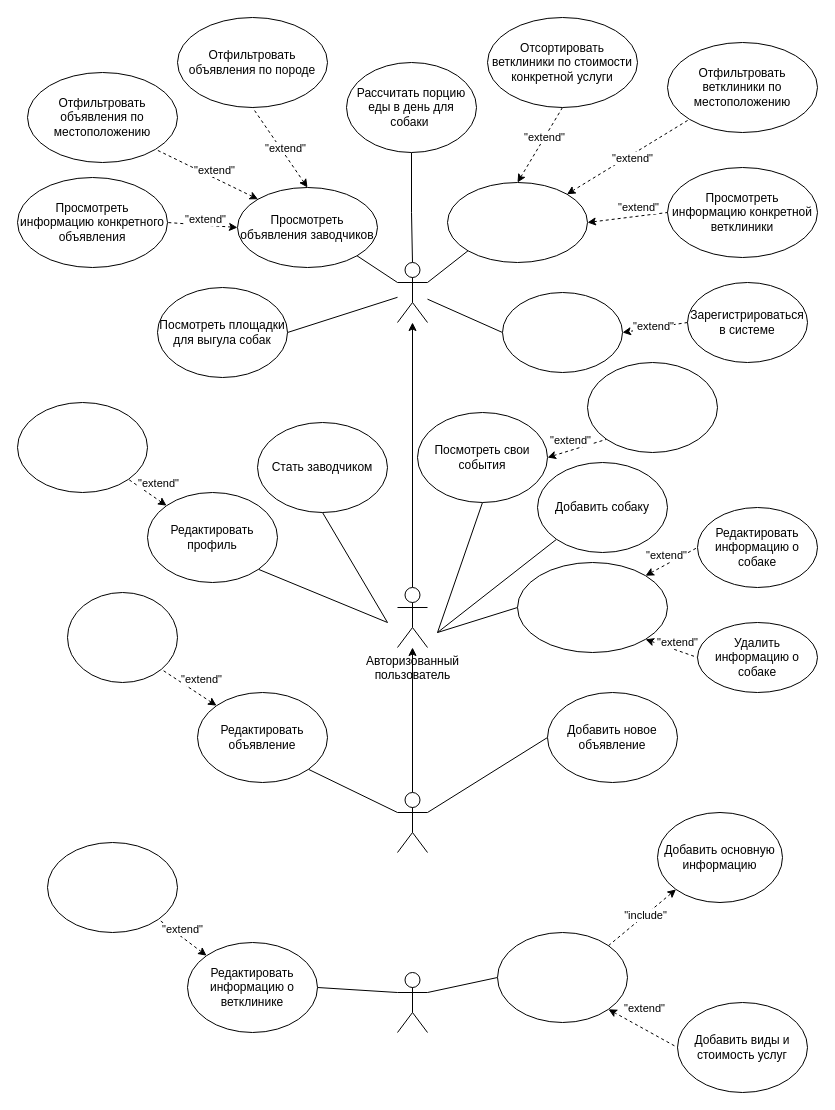
This 835x1110 diagram has some shape labels left out. Each missing label, with the centre of its shape:
Авторизоваться в системе: (562,332)
Администратор: (412,1002)
Добавить новое событие: (652,407)
Добавить новую ветклинику: (562,977)
Заводчик: (412,822)
Неавторизованный пользователь: (412,292)
Просмотреть информацию о собаке: (592,607)
Просмотреть список ветеринарных клиник: (517,222)
Сменить пароль: (82,447)
Удалить всю информацию о ветклинике: (112,887)
Удалить объявление: (122,637)
